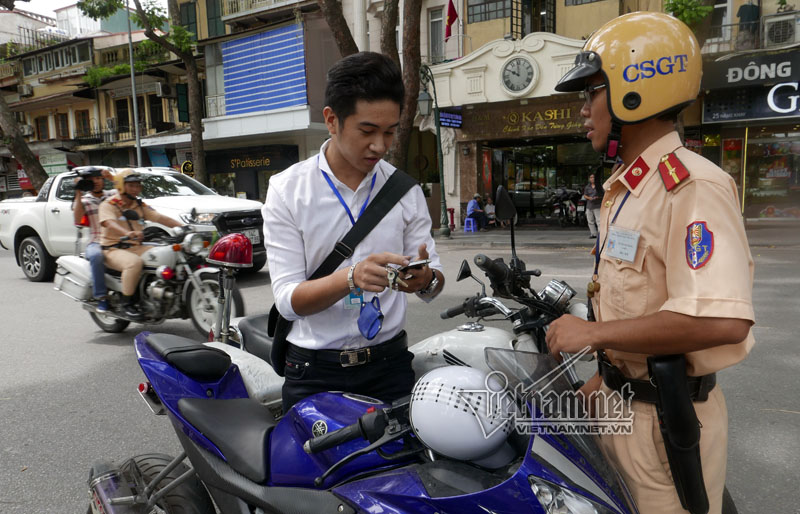police: (525, 8, 772, 512)
